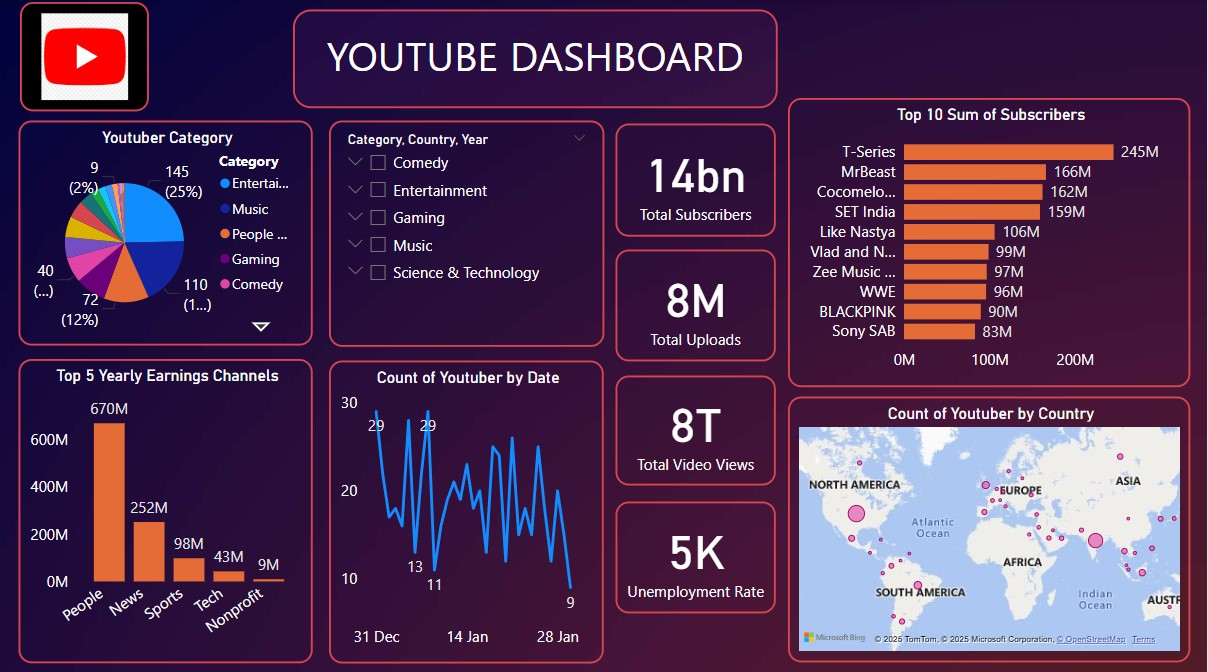

This screenshot's page, from the dashboard's own definition file:
{"tool":"powerbi","page":{"name":"Page 1","canvas":[1280,720],"ordinal":0},"visuals":[{"type":"card","fields":{"Values":["Global YouTube Statistics.Total_Subscribers"]},"box":[653.3,131.7,170,120],"z":0},{"type":"card","fields":{"Values":["Global YouTube Statistics.Total_Uploads"]},"box":[653.3,265,170,118.3],"z":1000},{"type":"card","fields":{"Values":["Global YouTube Statistics.Total_Video_Views"]},"box":[653.3,400,170,116.7],"z":2000},{"type":"clusteredBarChart","title":"Top 10 Sum of Subscribers","fields":{"Category":["Global YouTube Statistics.Youtuber"],"Y":["Global YouTube Statistics.Subscribers"]},"box":[836.7,105,426.7,306.7],"z":3000},{"type":"pieChart","title":"Youtuber Category","fields":{"Category":["Global YouTube Statistics.Category"],"Y":["Global YouTube Statistics.Youtuber"]},"box":[20,128.3,311.7,238.3],"z":4000},{"type":"map","fields":{"Category":["Global YouTube Statistics.Country"],"Size":["Global YouTube Statistics.Youtuber"]},"box":[836.7,421.7,426.7,281.7],"z":5000},{"type":"lineChart","fields":{"Y":["Global YouTube Statistics.Youtuber"],"Category":["Global YouTube Statistics.Date"]},"box":[349.9,383.3,291.1,321.3],"z":6000},{"type":"slicer","fields":{"Values":["Global YouTube Statistics.Category","Global YouTube Statistics.Country","Global YouTube Statistics.Year"]},"box":[350,128.3,291.7,240],"z":7000},{"type":"columnChart","title":"Top 5 Yearly Earnings Channels","fields":{"Category":["Global YouTube Statistics.Channels"],"Y":["Global YouTube Statistics.Highest Yearly Earnings"]},"box":[20.7,381.7,311.8,322.9],"z":8000},{"type":"textbox","box":[311.8,11.1,513.8,105],"z":9000},{"type":"image","box":[22.3,3.2,136.8,116.1],"z":10000},{"type":"card","fields":{"Values":["Global YouTube Statistics.Unemployment Rate"]},"box":[653.3,533.3,170,118.3],"z":11000}]}

Visuals, with their boxes in screenshot pixels (x1, y1, x2, y2), scaled from the page's 1280x720 canvas onto the 1208x672 screenshot:
card - Global YouTube Statistics.Total_Subscribers: (617,123,777,235)
card - Global YouTube Statistics.Total_Uploads: (617,247,777,358)
card - Global YouTube Statistics.Total_Video_Views: (617,373,777,482)
"Top 10 Sum of Subscribers" clusteredBarChart: (790,98,1192,384)
"Youtuber Category" pieChart: (19,120,313,342)
map - Global YouTube Statistics.Country x Global YouTube Statistics.Youtuber: (790,394,1192,657)
lineChart - Global YouTube Statistics.Youtuber x Global YouTube Statistics.Date: (330,358,605,658)
slicer - Global YouTube Statistics.Category x Global YouTube Statistics.Country: (330,120,606,344)
"Top 5 Yearly Earnings Channels" columnChart: (20,356,314,658)
textbox: (294,10,779,108)
image: (21,3,150,111)
card - Global YouTube Statistics.Unemployment Rate: (617,498,777,608)
